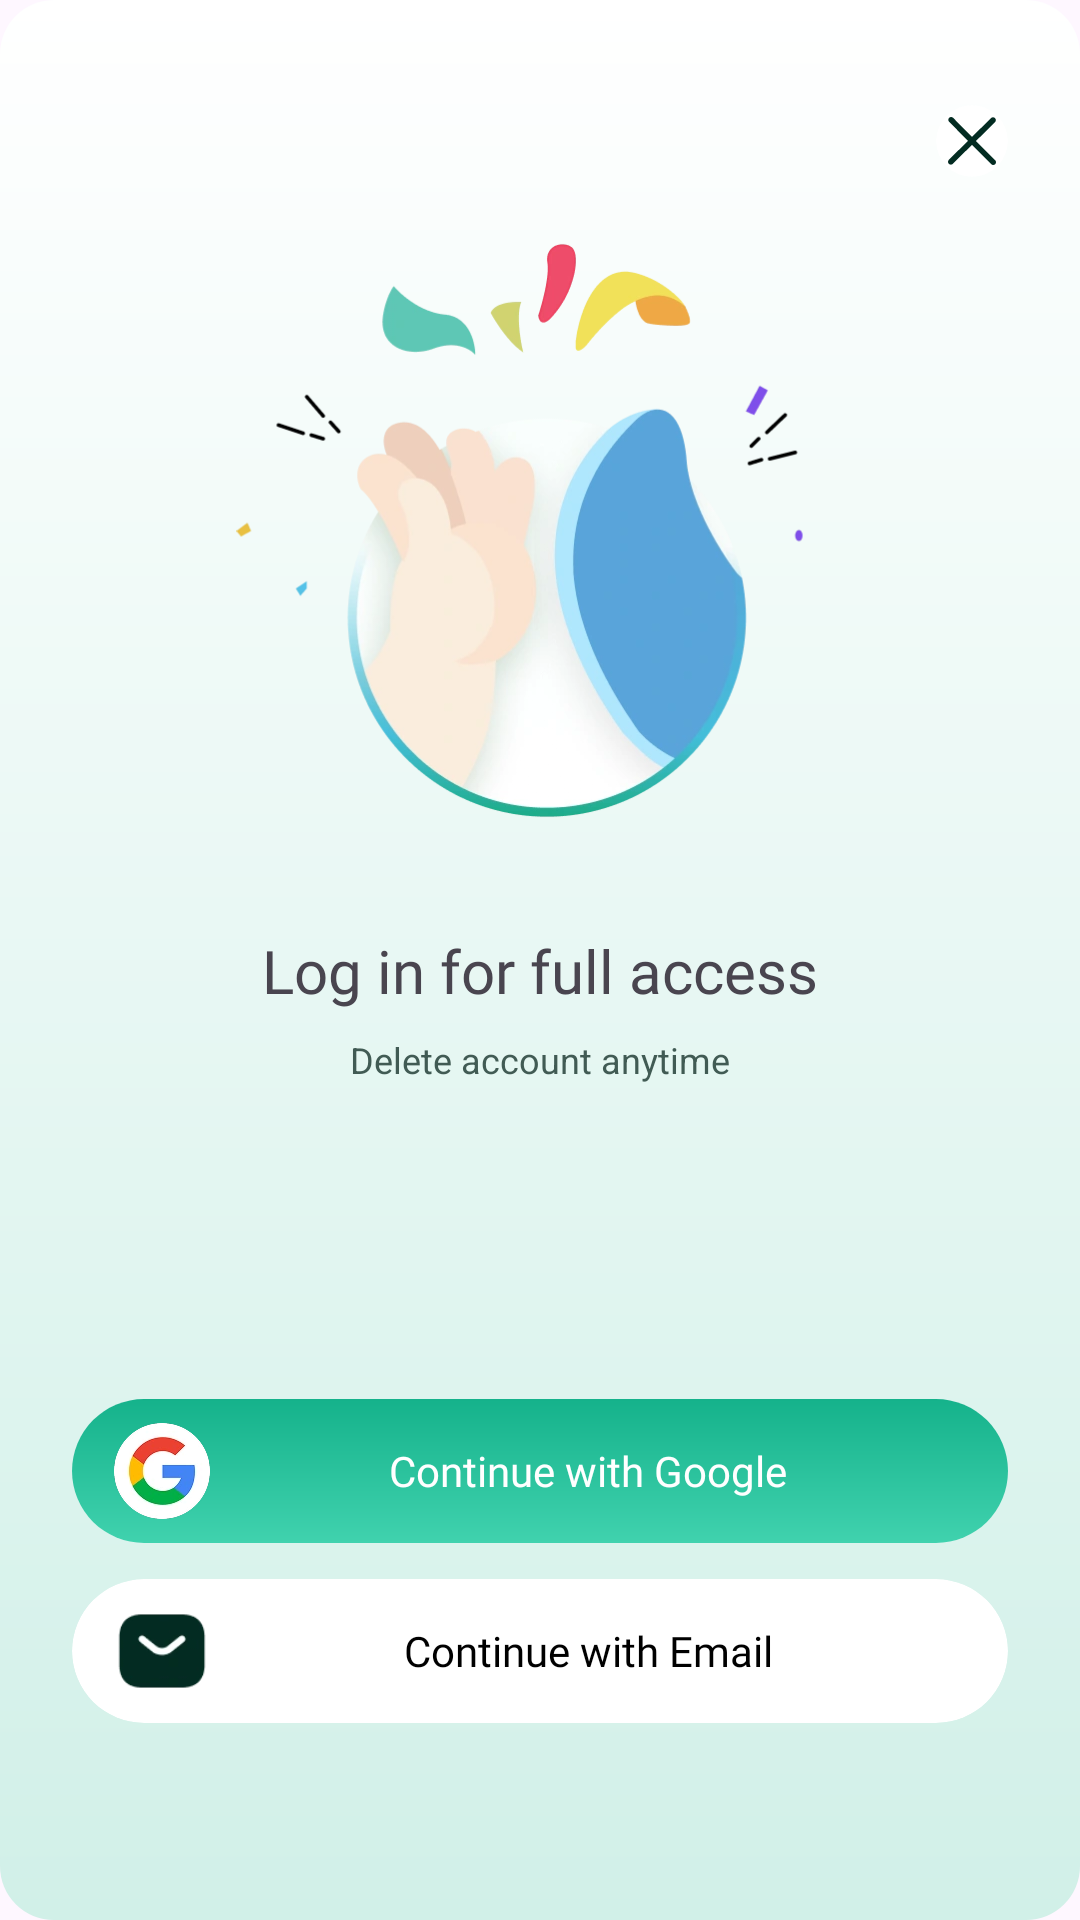

Icons on this 1080*1920 Android screen, each with the point to tap as (x=x, y=y):
close: (x=972, y=141)
